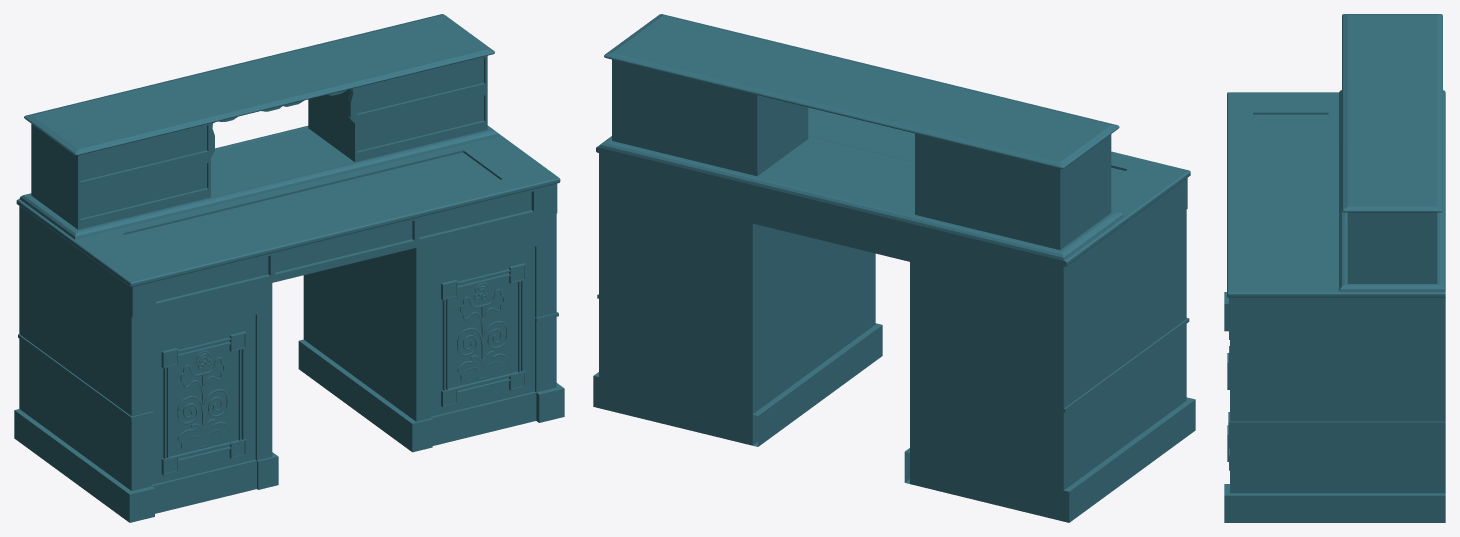
The model's file is Desk.fbx.
The picture shows the model from 3 angles, left to right: view 1: azimuth 30°, elevation 25°; view 2: azimuth 150°, elevation 25°; view 3: azimuth 270°, elevation 25°; orthographic projection. The views are drawn at different scales.
Visible parts, largest first — view 1: Cube; view 2: Cube; view 3: Cube.
Boxes of the visible parts, bbox=[...] form: Cube: bbox=[14, 14, 564, 522]; Cube: bbox=[593, 14, 1195, 522]; Cube: bbox=[1224, 14, 1445, 522].
Bounding box in the file's own units: 1811 × 1287 × 833.
